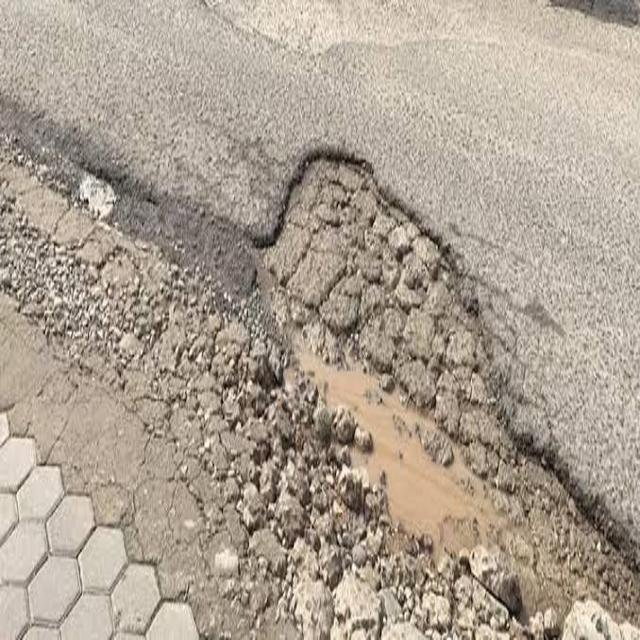Pinggir: (0, 72, 640, 640)
